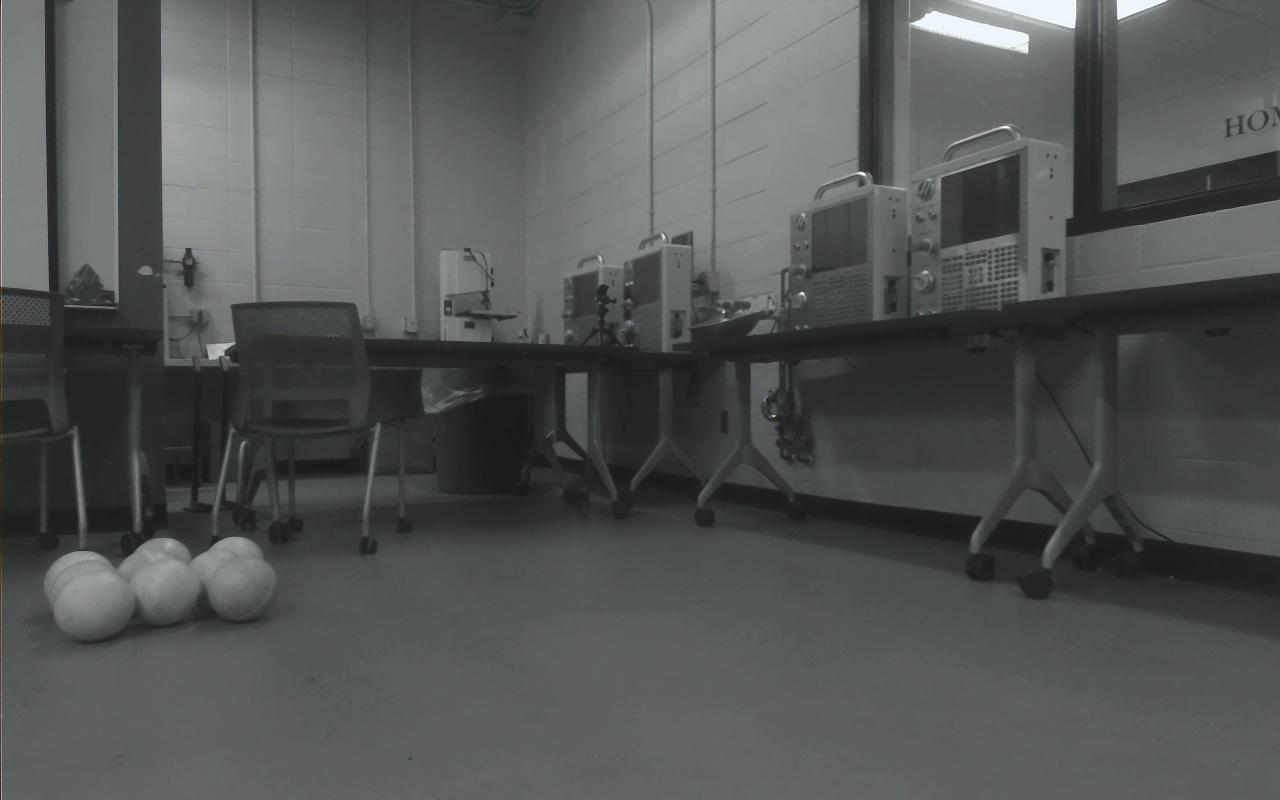Fuel: (52, 570, 134, 643), (207, 557, 278, 623), (131, 559, 200, 626), (46, 558, 122, 618), (42, 549, 113, 609), (188, 546, 251, 610), (118, 548, 184, 609), (133, 536, 195, 590), (205, 536, 264, 591)
